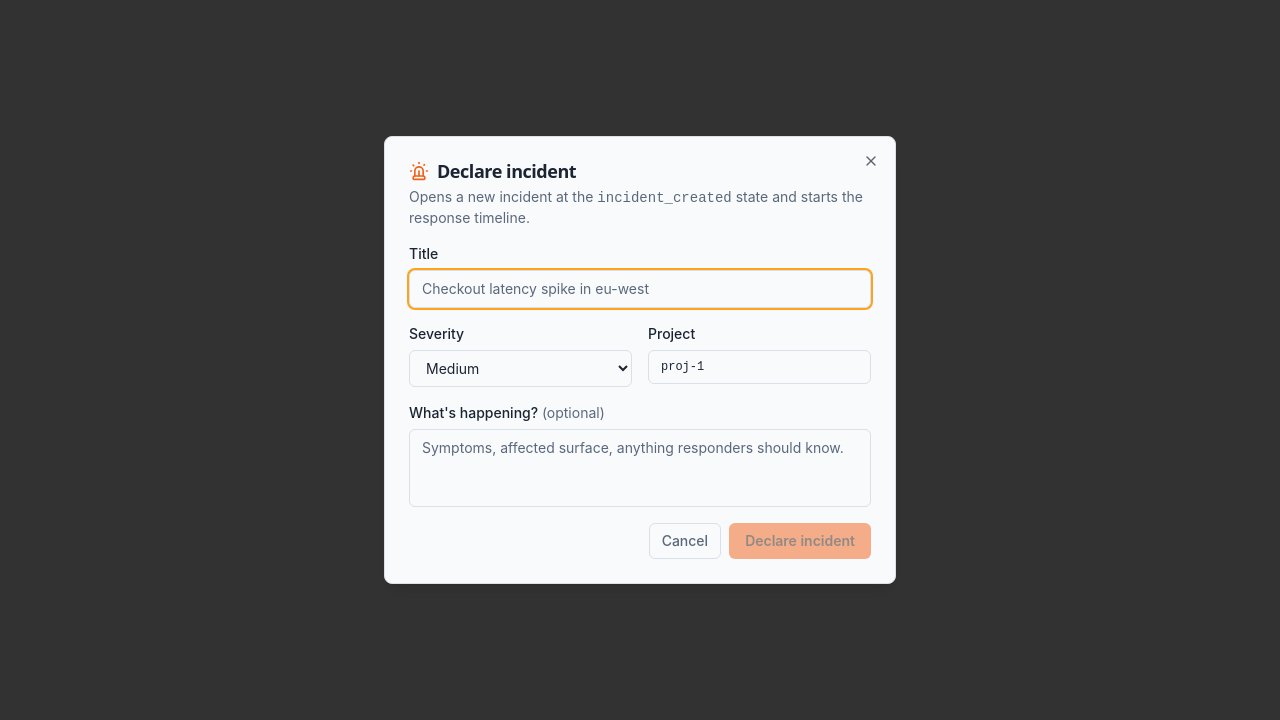
Scenario: DeclareIncidentDialog › surfaces a permission error without closing
Type "Nope" into the field labelled "Title" at (640, 289), box [409,270,871,308]
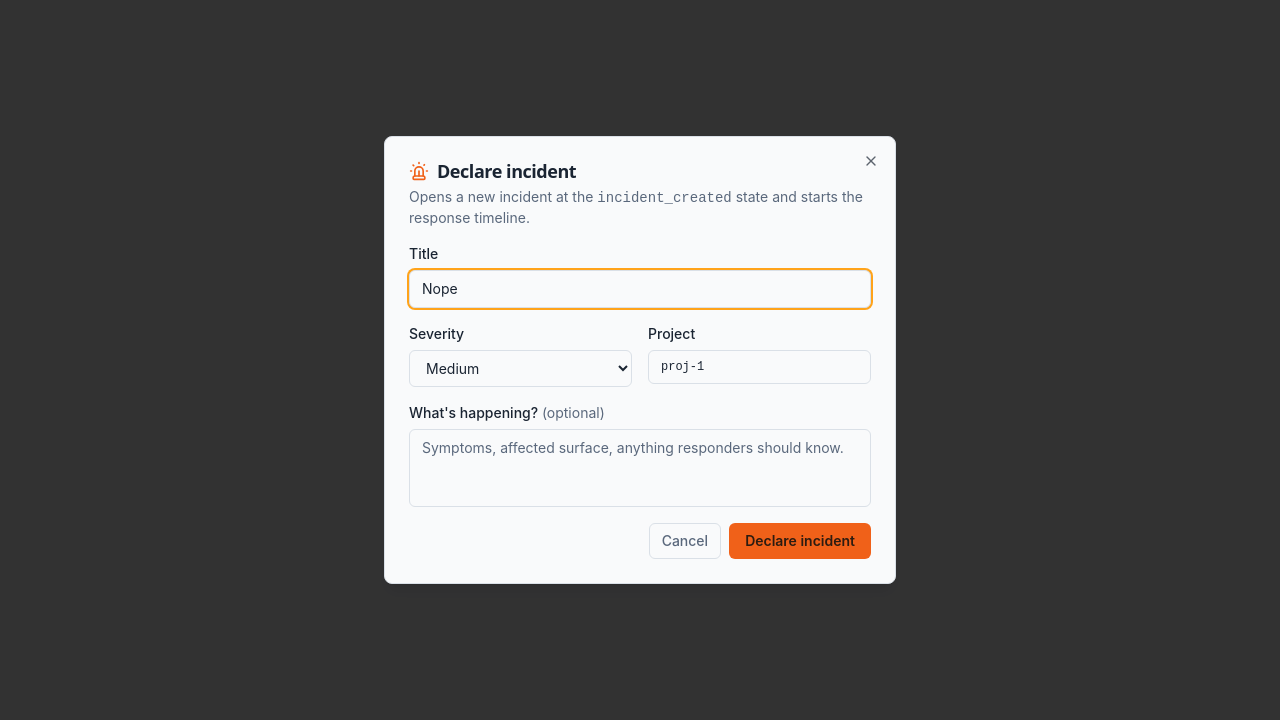
Click the button "Declare incident" at (800, 541), box [729,523,871,559]
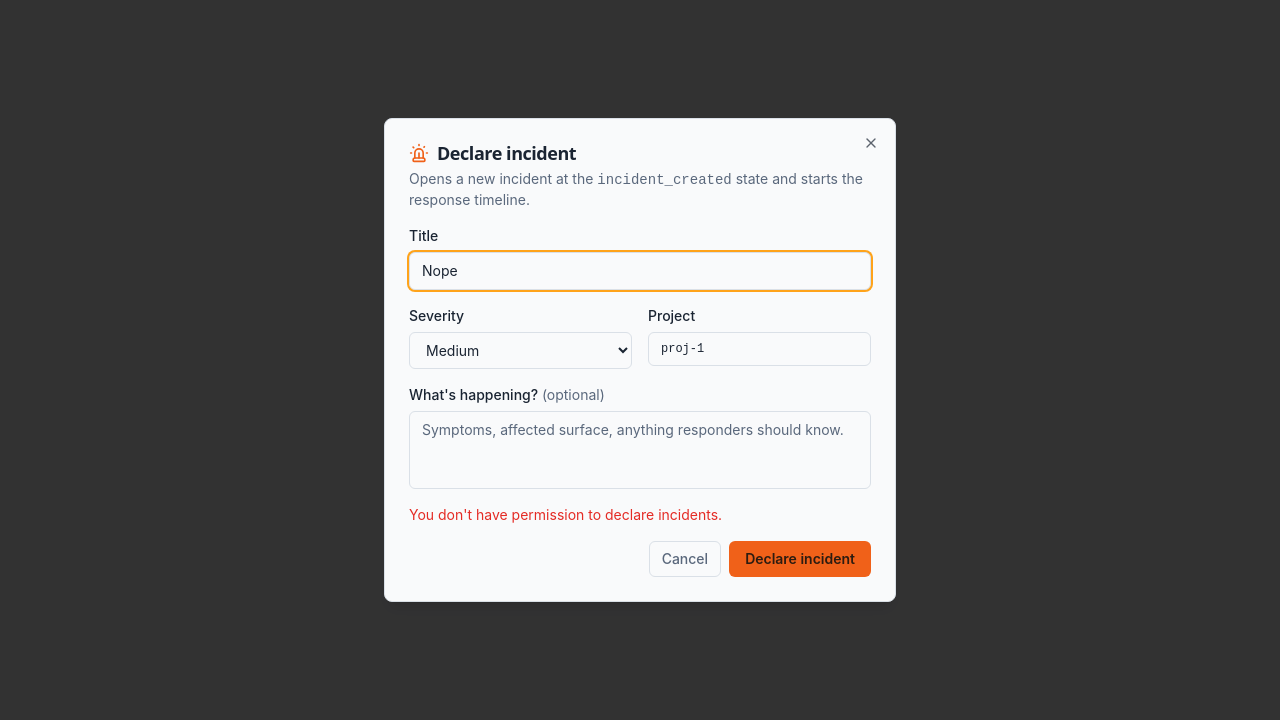
Check: the message shows "don't have permission", box [409,506,722,523]
